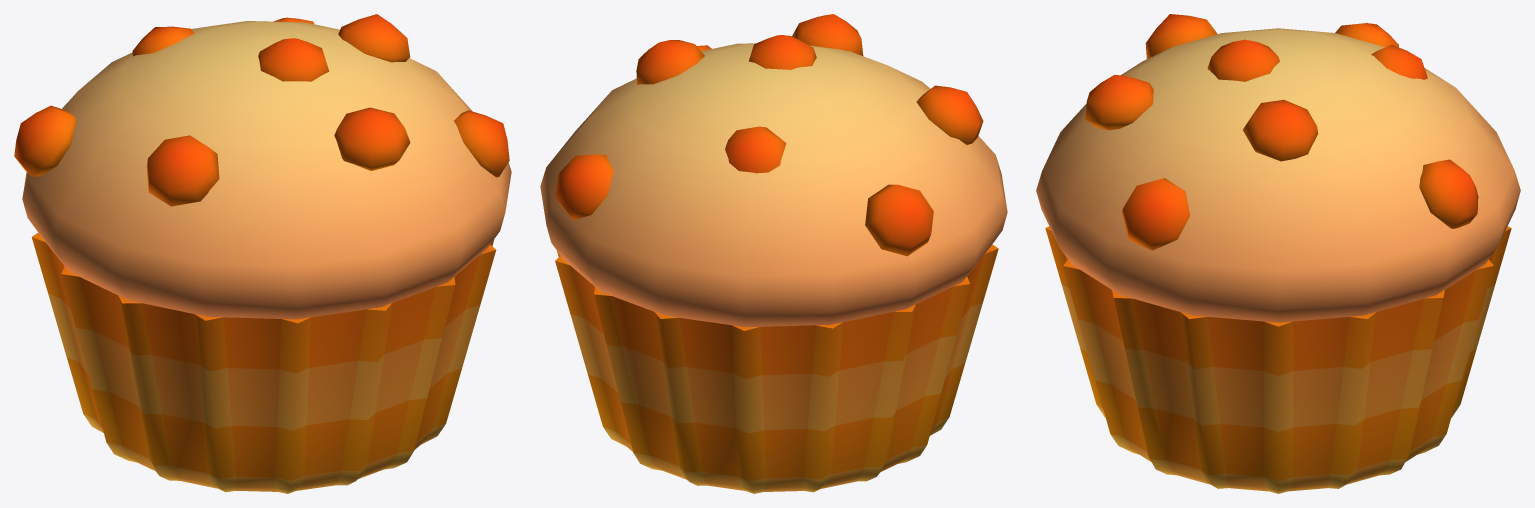
Rendered from Cupcake_Lemon_V1_00.fbx.
3 views of the same model, side by side, from view 1: azimuth 30°, elevation 25°; view 2: azimuth 150°, elevation 25°; view 3: azimuth 270°, elevation 25° (orthographic). The views are drawn at different scales.
Visible parts, largest first — view 1: Cupcake_Lemon_V1_00; view 2: Cupcake_Lemon_V1_00; view 3: Cupcake_Lemon_V1_00.
Boxes of the visible parts, x1,y1,x2,y2 form: Cupcake_Lemon_V1_00: [14, 14, 511, 493]; Cupcake_Lemon_V1_00: [540, 14, 1007, 493]; Cupcake_Lemon_V1_00: [1036, 14, 1520, 493].
Size of the model in its own units: 32.49 by 29.25 by 32.49.
